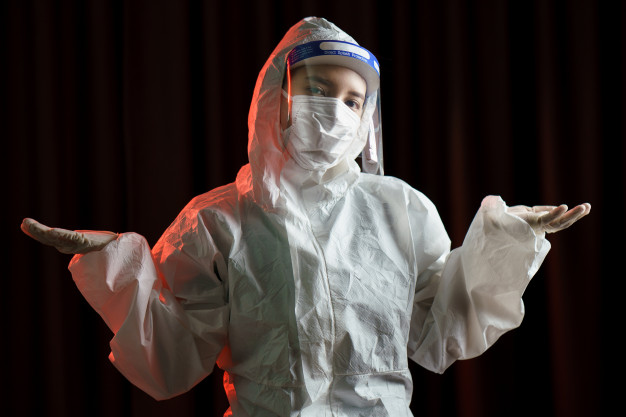Coverall: (118, 158, 525, 417)
Gloves: (492, 194, 595, 241), (18, 213, 122, 255)
with_mask: (281, 82, 370, 174)
